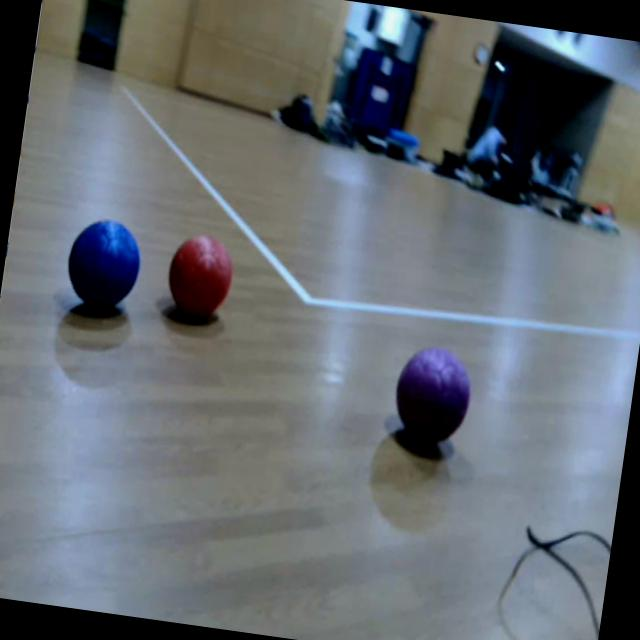blue_ball: (59, 213, 150, 324)
purple_ball: (386, 342, 478, 458)
red_ball: (161, 230, 238, 328)
